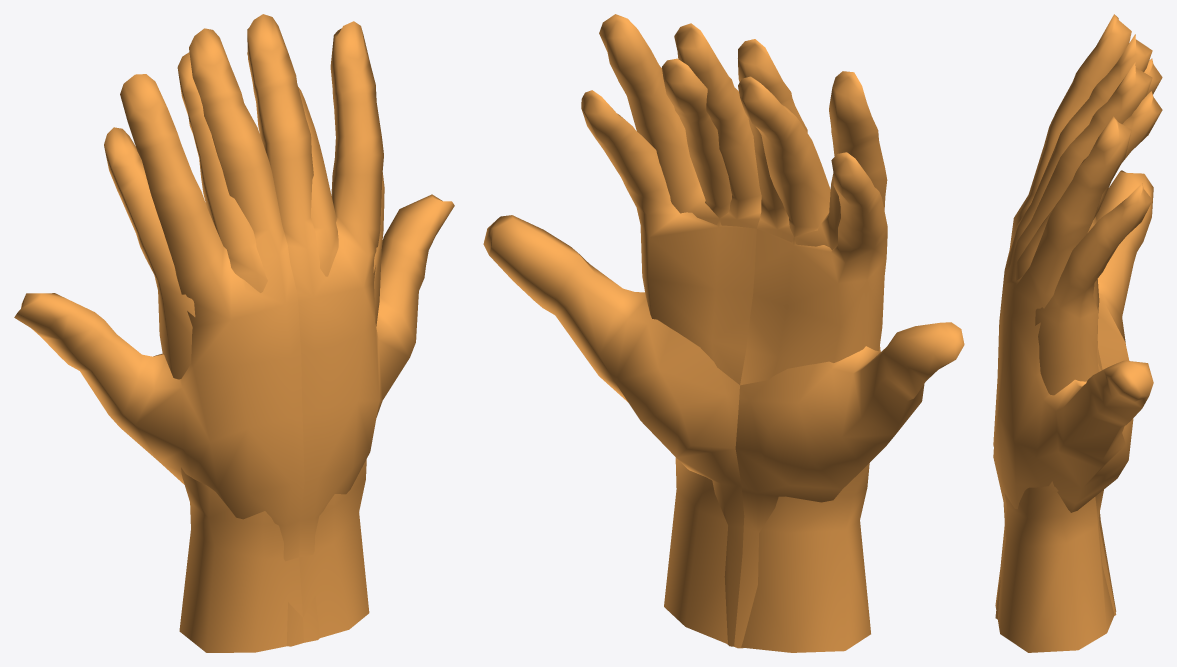
Rendered from hand_Lowpoly.fbx.
3 renders of one model, left to right at view 1: azimuth 30°, elevation 25°; view 2: azimuth 150°, elevation 25°; view 3: azimuth 270°, elevation 25°, orthographic. The views are drawn at different scales.
Parts seen in each view (by area): view 1: Plane007, Plane005; view 2: Plane007, Plane005; view 3: Plane005, Plane007.
Boxes of the visible parts, x1,y1,x2,y2 form: Plane007: (104, 14, 454, 652); Plane005: (14, 28, 384, 646); Plane007: (483, 14, 887, 652); Plane005: (581, 39, 964, 648); Plane005: (993, 14, 1162, 652); Plane007: (993, 58, 1162, 619).
Size of the model in its own units: 82.84 by 104 by 28.11.
1 material, 1 textured.
